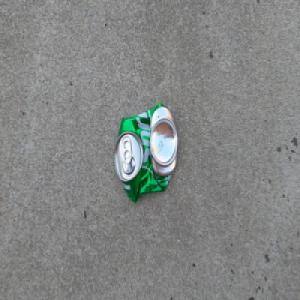SodaCan: (113, 99, 179, 205)
